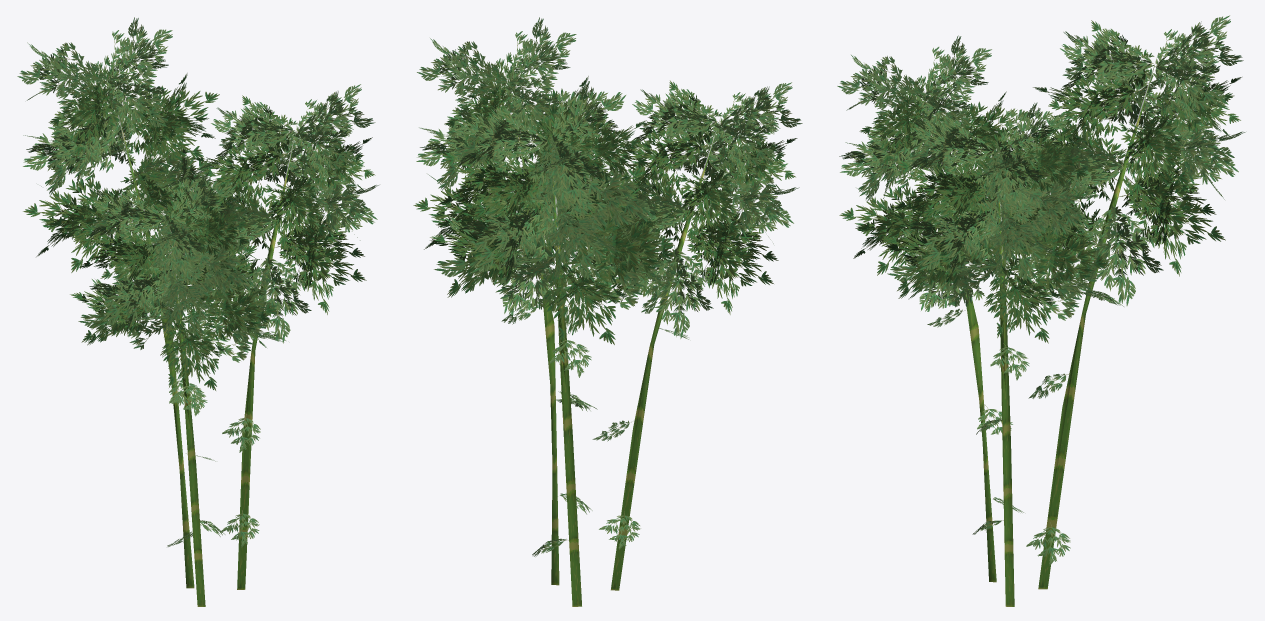
Rendered from m_bombooLOD1.fbx.
The picture shows the model from 3 angles, left to right: view 1: azimuth 30°, elevation 25°; view 2: azimuth 150°, elevation 25°; view 3: azimuth 270°, elevation 25°; orthographic projection. The views are drawn at different scales.
Visible parts, largest first — view 1: mesh_bamboo04; view 2: mesh_bamboo04; view 3: mesh_bamboo04.
Boxes of the visible parts, left/top/right/bottom form: mesh_bamboo04: left=17, top=17, right=378, bottom=606; mesh_bamboo04: left=413, top=17, right=802, bottom=606; mesh_bamboo04: left=837, top=15, right=1245, bottom=606.
Bounding box in the file's own units: 4.06 × 6.27 × 4.38.
